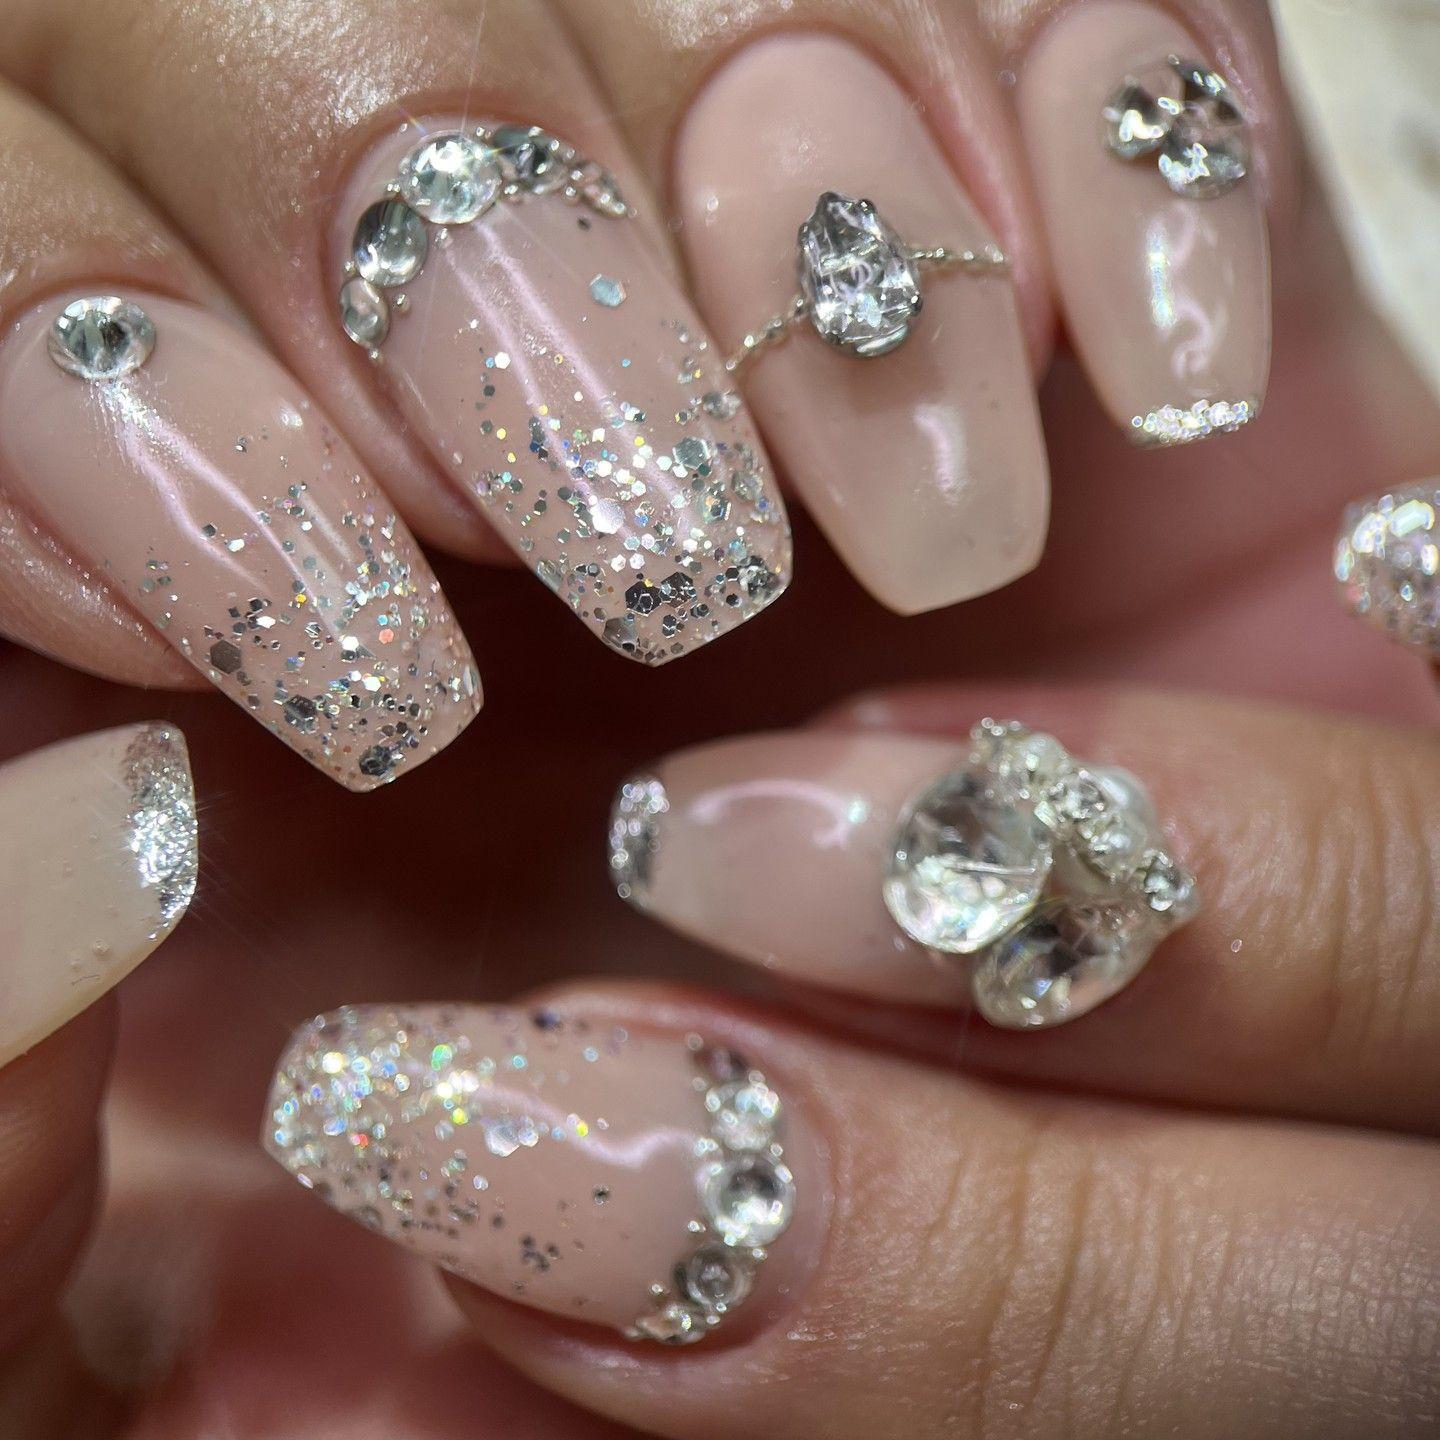nail: (328, 113, 794, 667), (1, 280, 484, 793), (661, 16, 1054, 615), (258, 993, 802, 1346), (611, 720, 1193, 1026), (1011, 0, 1276, 448), (0, 717, 200, 1067)
